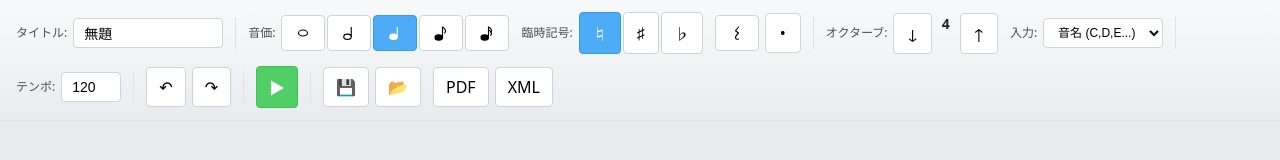
Test case: Toolbar › オクターブ制御 › オクターブが7の時は上げるボタンが無効になる
Click the button titled "オクターブ上げる (↑)": (979, 33) [960, 12, 998, 54]
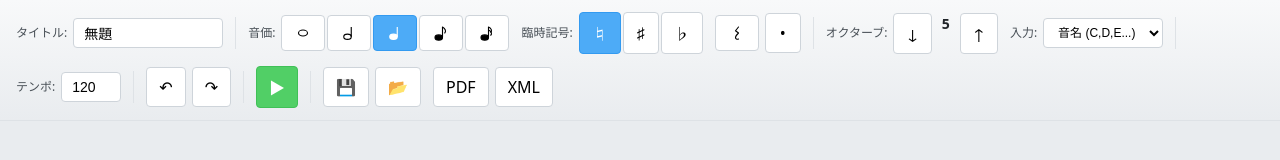
Click the button titled "オクターブ上げる (↑)": (979, 33) [960, 12, 998, 54]
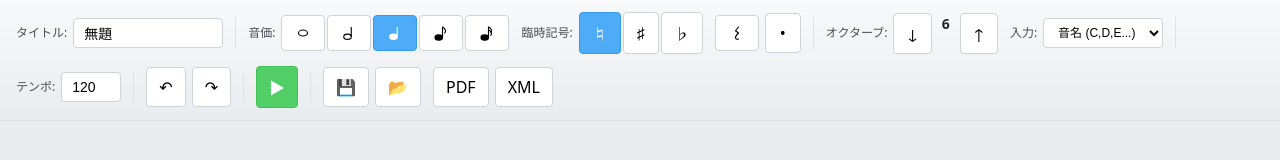
Click the button titled "オクターブ上げる (↑)": (979, 33) [960, 12, 998, 54]
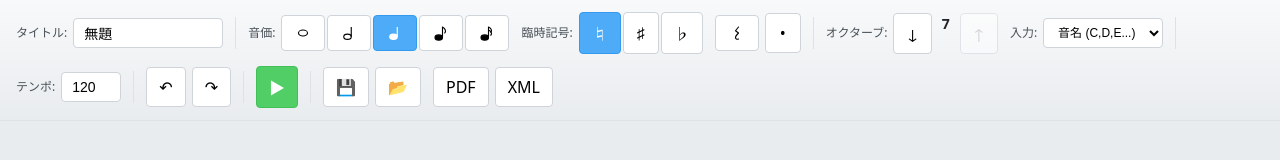
Now the button titled "オクターブ上げる (↑)" is disabled, box [960, 12, 998, 54]
